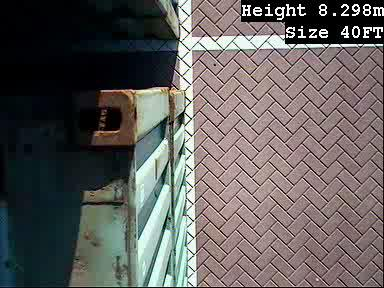groundmarker_2: (186, 131, 276, 269)
